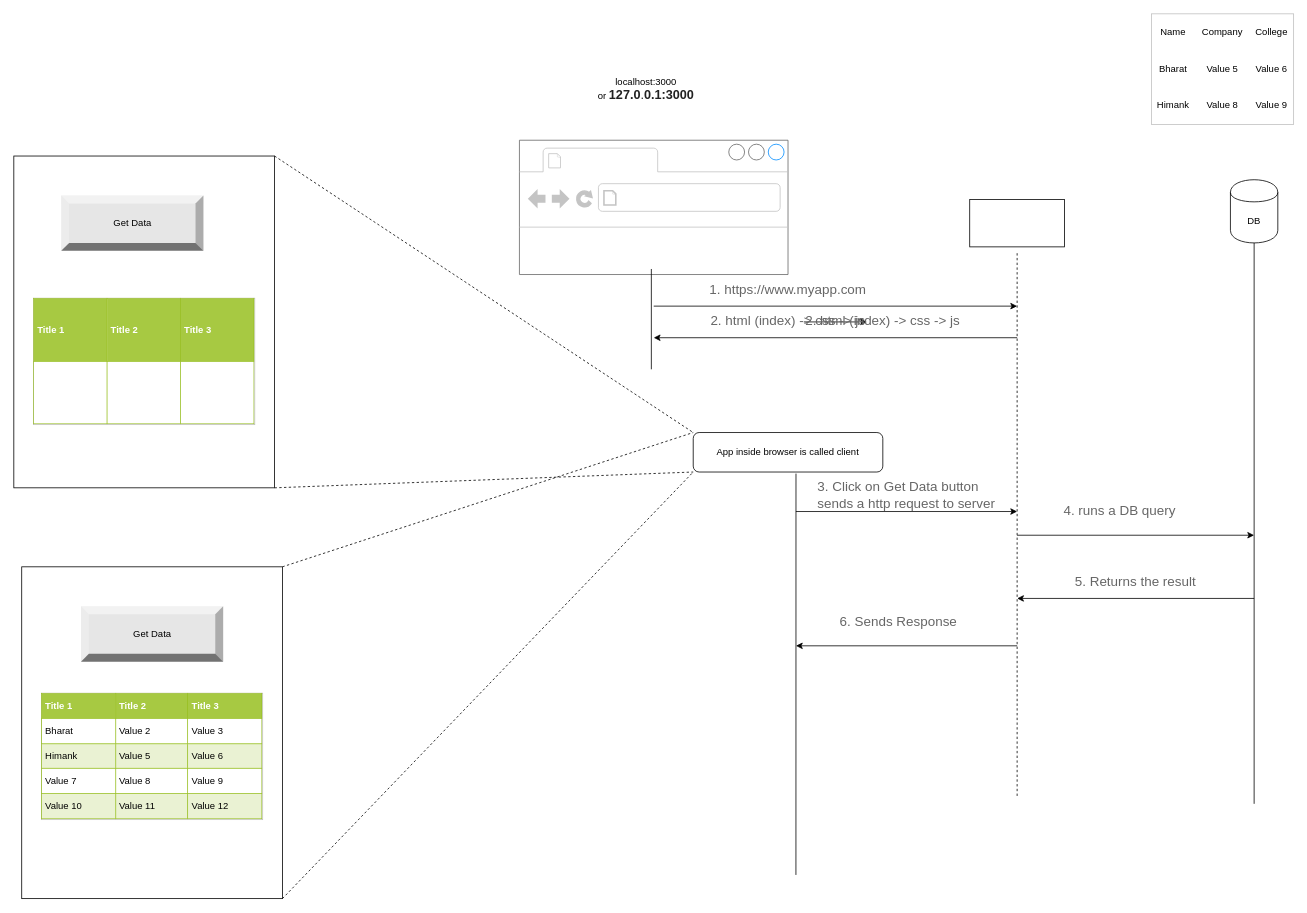
Image size: 1307x913. Some labels were removed from this diagram. The centre of each missing label's shape, as x and y in pixels:
https://www.myapp.com: the point at 720,197
Page 1: the point at 610,159
SERVER: the point at 1017,223
